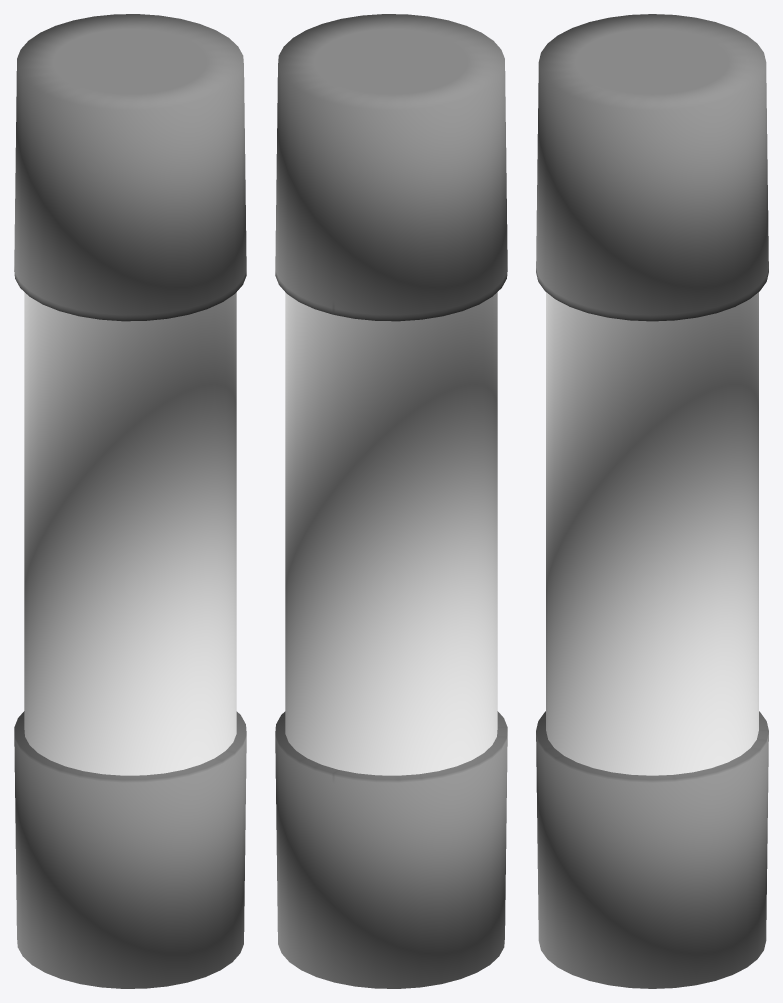
Rendered from fuse.fbx.
3 renders of one model, left to right at view 1: azimuth 30°, elevation 25°; view 2: azimuth 150°, elevation 25°; view 3: azimuth 270°, elevation 25°, orthographic.
Visible parts, largest first — view 1: Fuse; view 2: Fuse; view 3: Fuse.
Part boxes in pixels (x1,y1,x2,y2): Fuse: (14,14,246,988); Fuse: (275,14,507,988); Fuse: (536,14,768,988).
Size of the model in its own units: 0.0533 by 0.222 by 0.0533.
